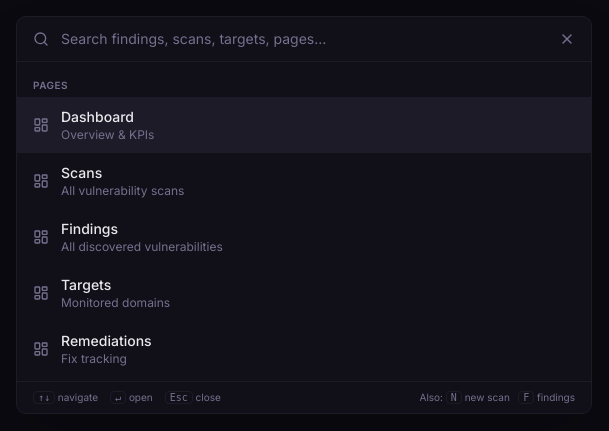
Scenario: CommandPalette › shows API-returned findings when search query length > 1
This screenshot has width=609, height=431.
Type "sql" into the field with placeholder "Search findings, scans, targets, pages…" at x=304, y=38, box [61,28,547,48]
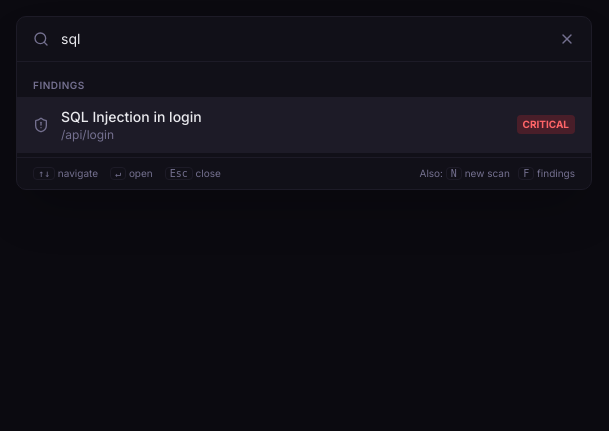
Result: the text "SQL Injection in login" is shown at [61,108,202,124]
